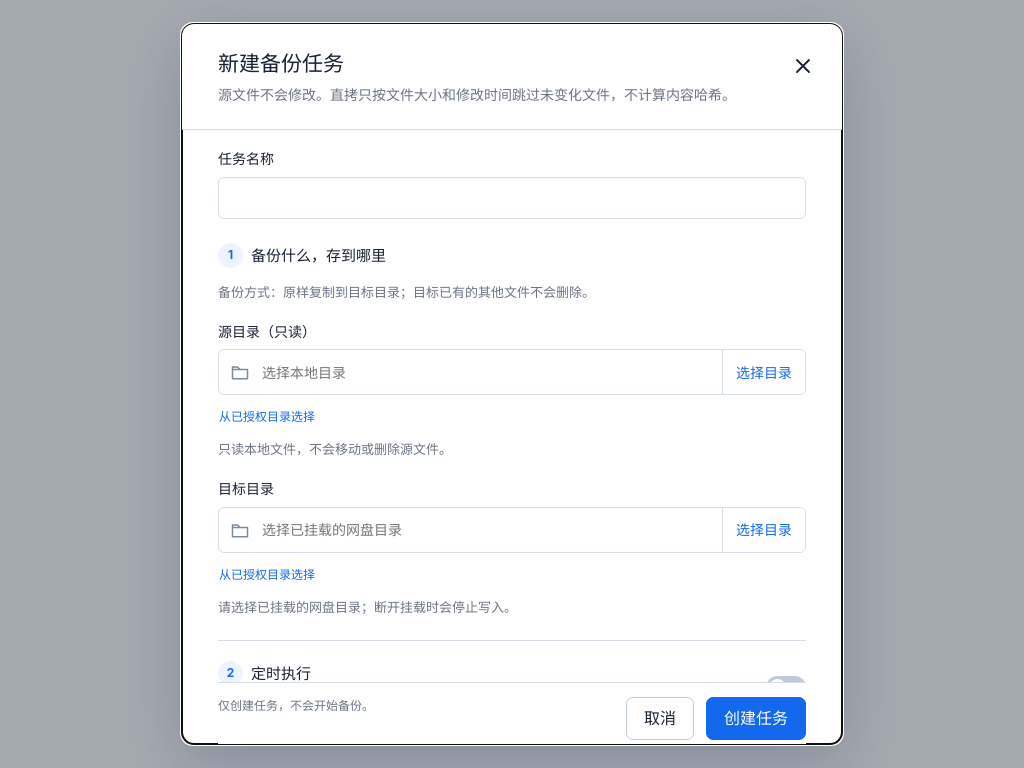
Test case: directory picker in a toolbox iframe › can choose an already authorized directory without requesting another native grant
What coordinates should you click on to do the following:
click the button with aria-label "从已授权目录选择源目录"
I would click on:
 (267, 417)
Its box is [218,402,316,432].
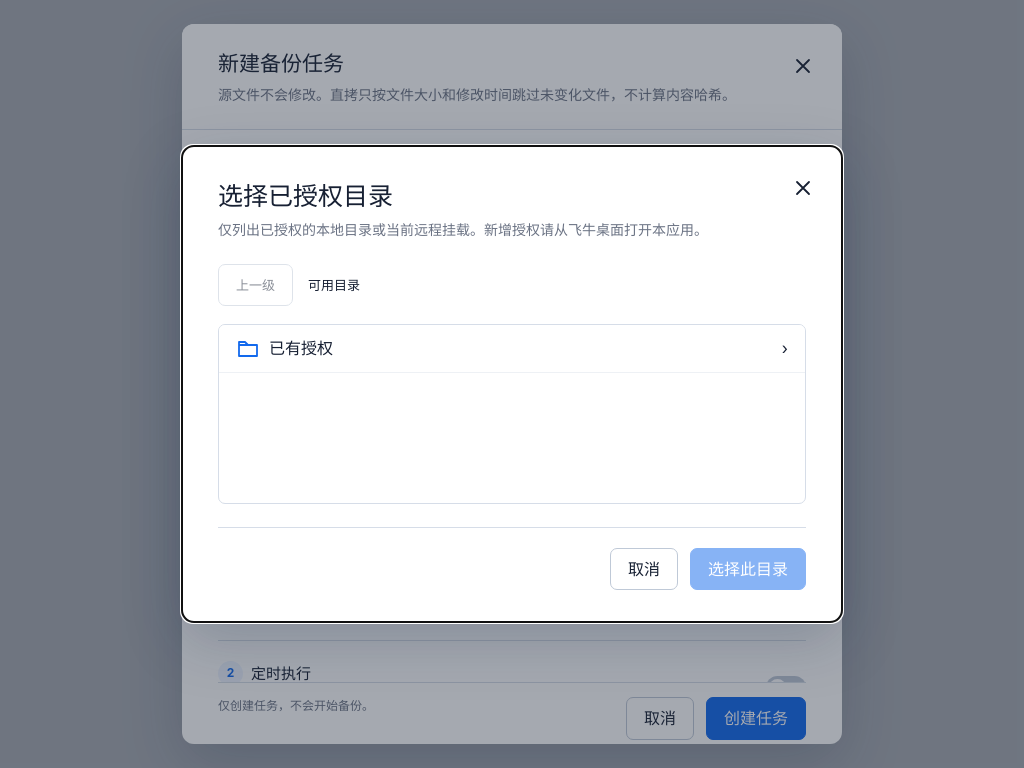
What coordinates should you click on to do the following:
click the button "已有授权 ›"
I would click on:
 (301, 348)
Its box is [219,325,805,373].
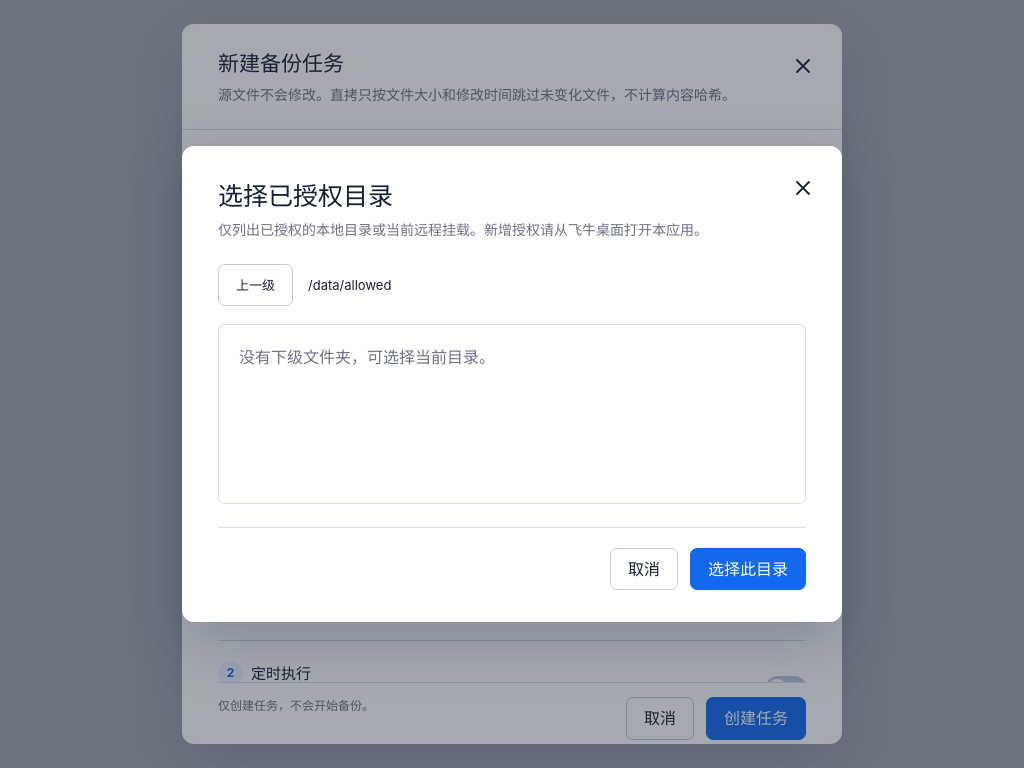
What coordinates should you click on to do the following:
click the button "选择此目录"
I would click on:
 (748, 569)
Its box is [690,548,806,590].
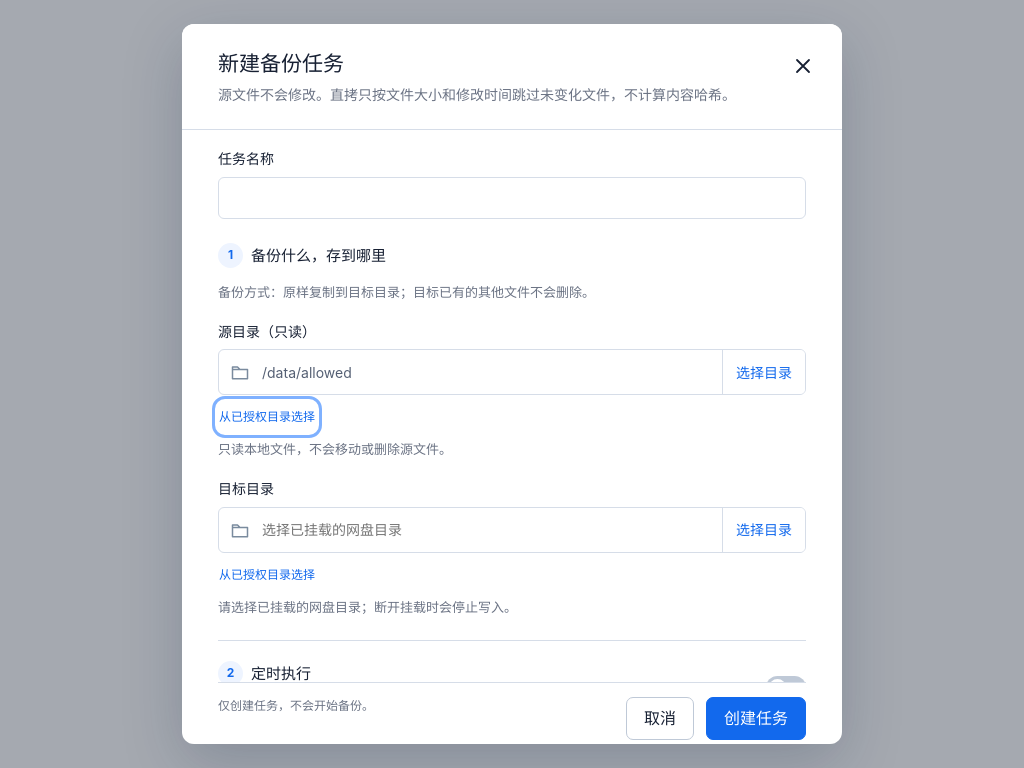
Result: the field labelled "源目录（只读）" holds "/data/allowed" at [250,351,722,393]
